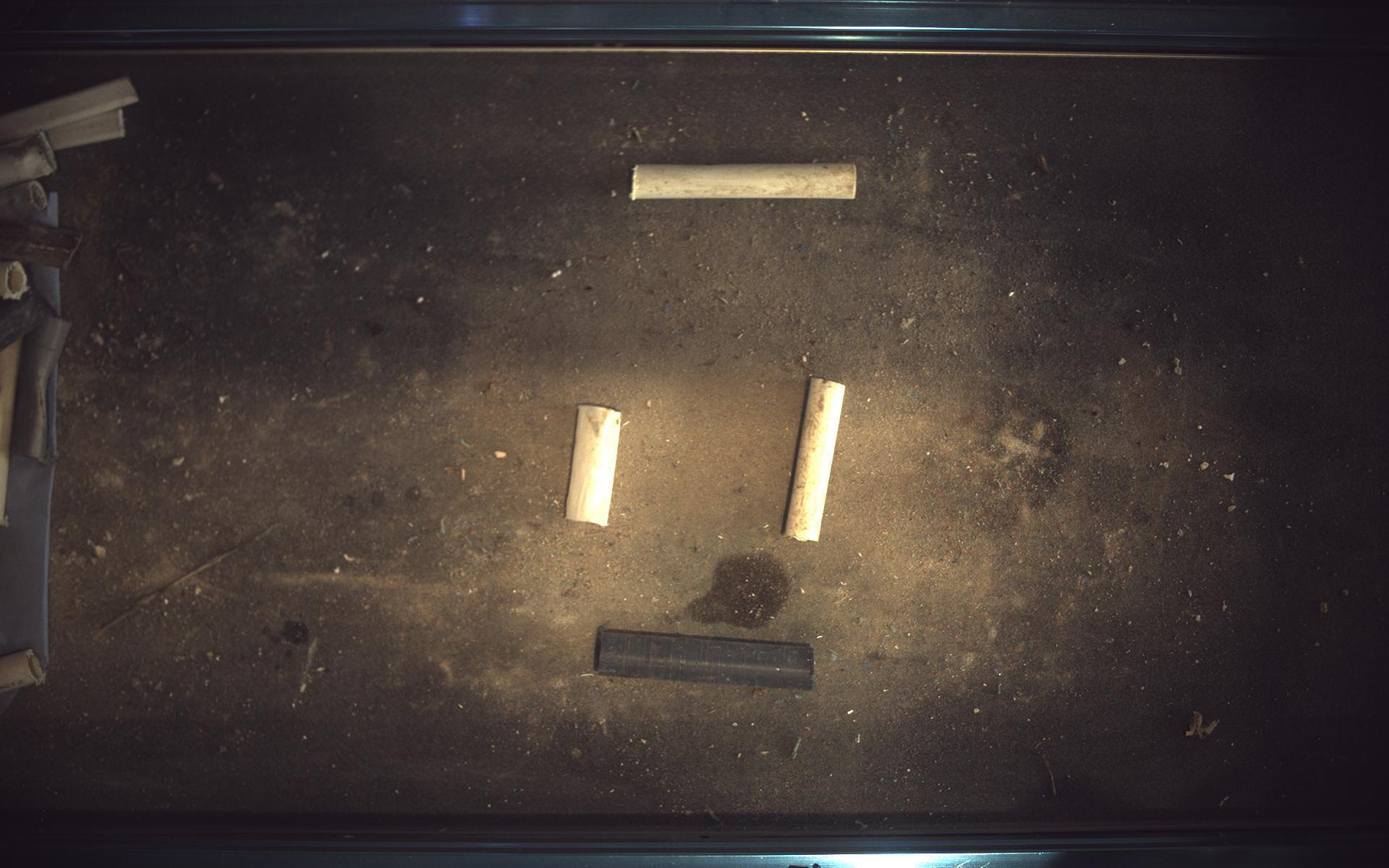pipes: (595, 628, 815, 691), (786, 378, 846, 542), (9, 315, 69, 464), (632, 163, 858, 199), (566, 404, 621, 527), (1, 339, 21, 526), (1, 130, 56, 187), (1, 289, 46, 350), (1, 650, 45, 694), (1, 179, 47, 219), (1, 260, 27, 299)
plastic: (1, 76, 138, 138), (1, 219, 80, 268), (45, 109, 124, 149)
